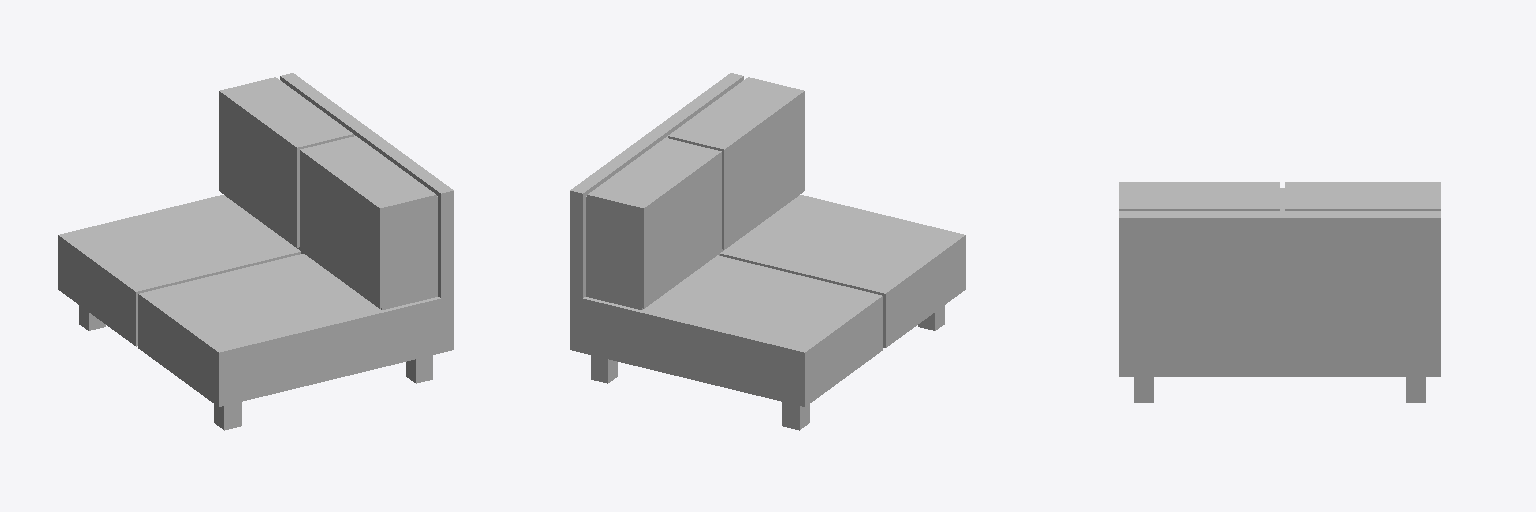
File: Sofa.obj
3 renders of one model, left to right at view 1: azimuth 30°, elevation 25°; view 2: azimuth 150°, elevation 25°; view 3: azimuth 270°, elevation 25°, orthographic.
Parts seen in each view (by area): view 1: Untitled.001; view 2: Untitled.001; view 3: Untitled.001.
Boxes of the visible parts, x1=… form: Untitled.001: x1=58, y1=73, x2=453, y2=430; Untitled.001: x1=570, y1=73, x2=965, y2=430; Untitled.001: x1=1119, y1=182, x2=1440, y2=402.
Bounding box in the file's own units: 5.4 × 4.2 × 6.4.